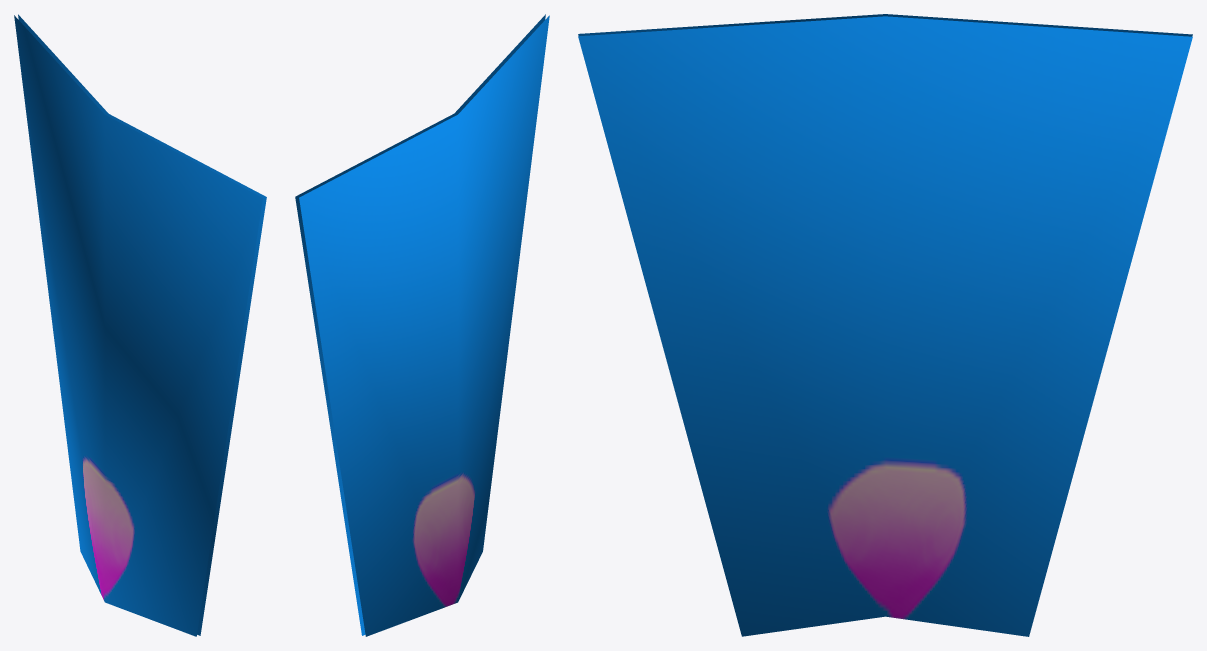
File: p_mesh_trashbot_splatter_plane04.fbx
3 views of the same model, side by side, from view 1: azimuth 30°, elevation 25°; view 2: azimuth 150°, elevation 25°; view 3: azimuth 270°, elevation 25° (orthographic). The views are drawn at different scales.
Parts seen in each view (by area): view 1: Fluid2.001; view 2: Fluid2.001; view 3: Fluid2.001.
Part boxes in pixels (left/top/right/bottom): Fluid2.001: left=14, top=14, right=266, bottom=636; Fluid2.001: left=295, top=14, right=549, bottom=636; Fluid2.001: left=578, top=14, right=1192, bottom=636.
Size of the model in its own units: 0.1115 by 1.37 by 1.27.
